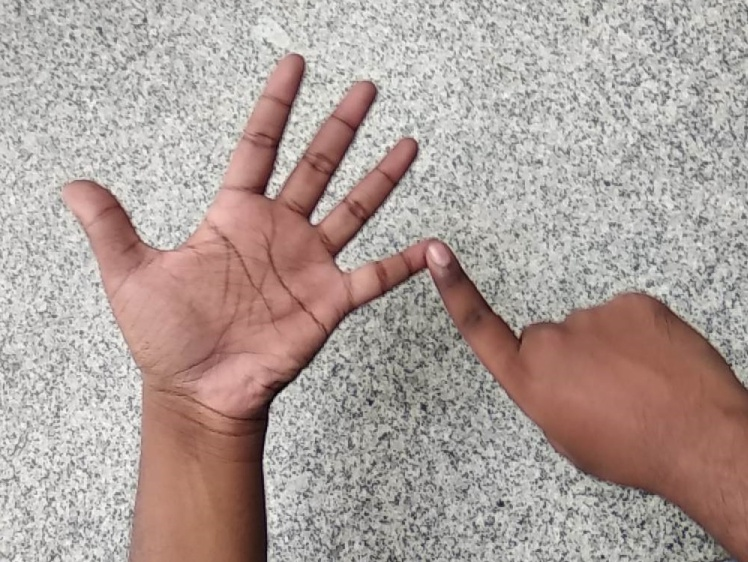i: (64, 54, 551, 429)
